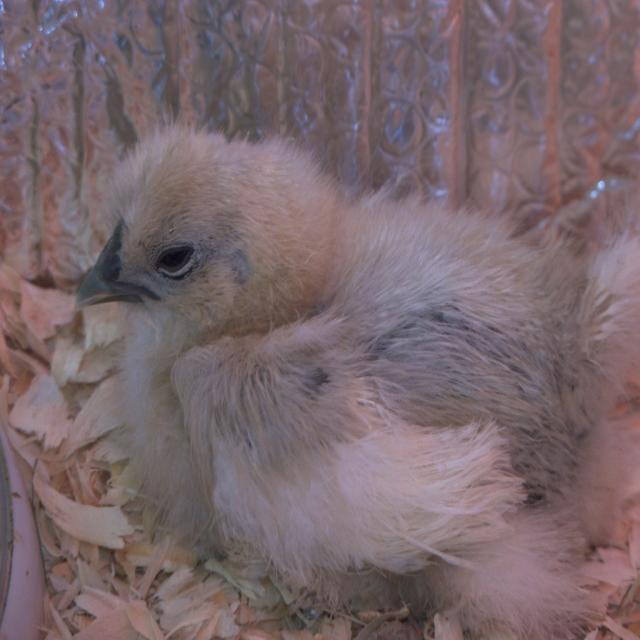Chicken: (82, 112, 640, 638)
